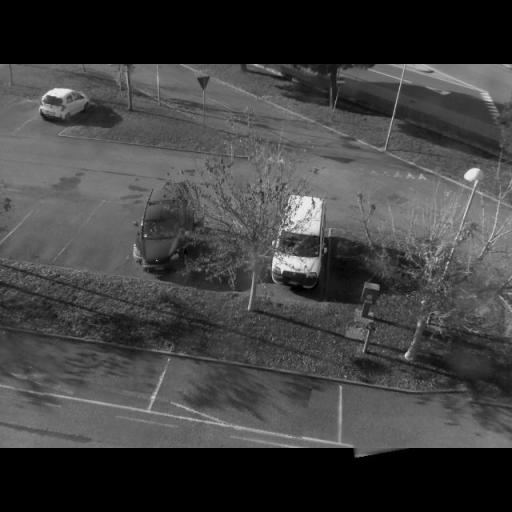busy: (124, 183, 210, 278), (38, 88, 90, 124)
free: (171, 367, 311, 433), (348, 388, 474, 454), (13, 338, 120, 398), (86, 204, 142, 276), (22, 205, 72, 264), (6, 96, 39, 126)
